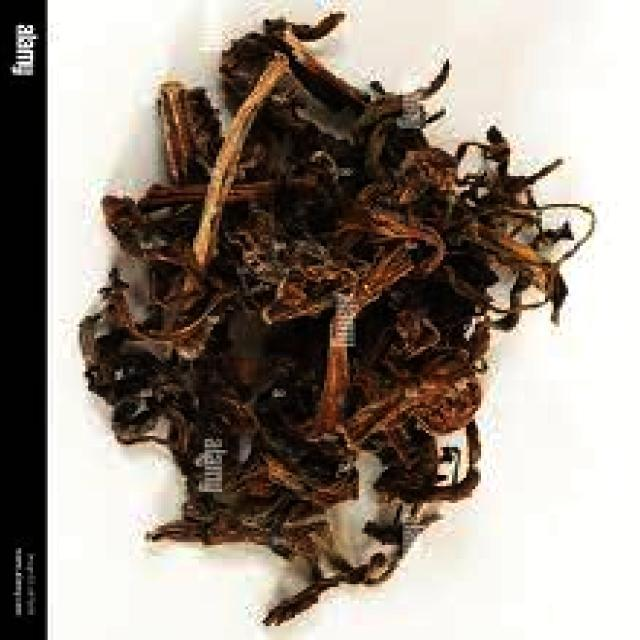NA: (107, 56, 562, 608)
